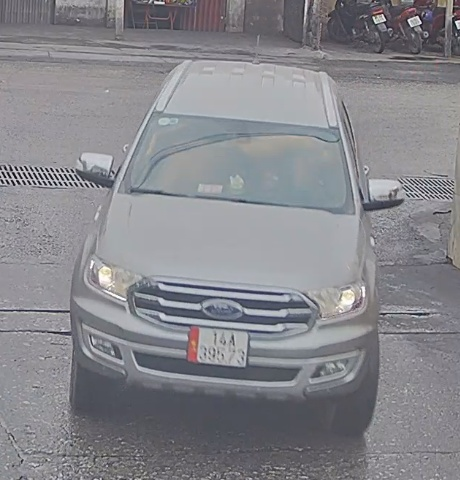vehicle plate: (181, 319, 261, 372)
